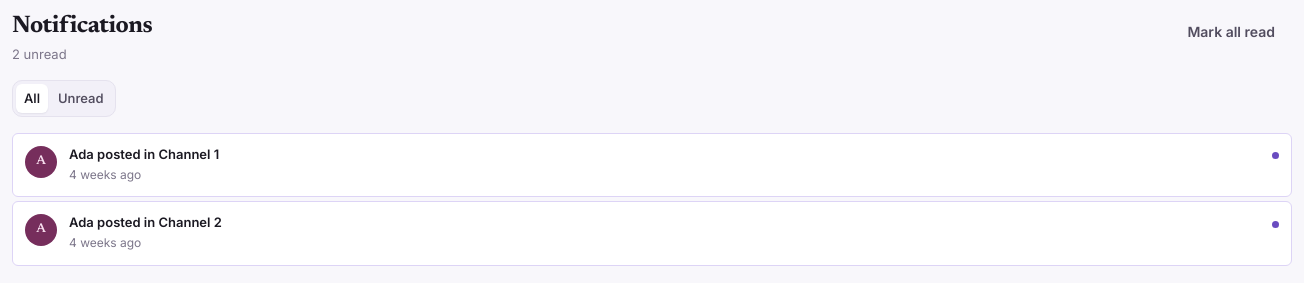
Test: opening one › goes where it points, and the bell drops by one with the server
Step 1. Click the button "A Ada posted in Channel 1 4 weeks ago" → (41, 162), box [12,133,1292,197]
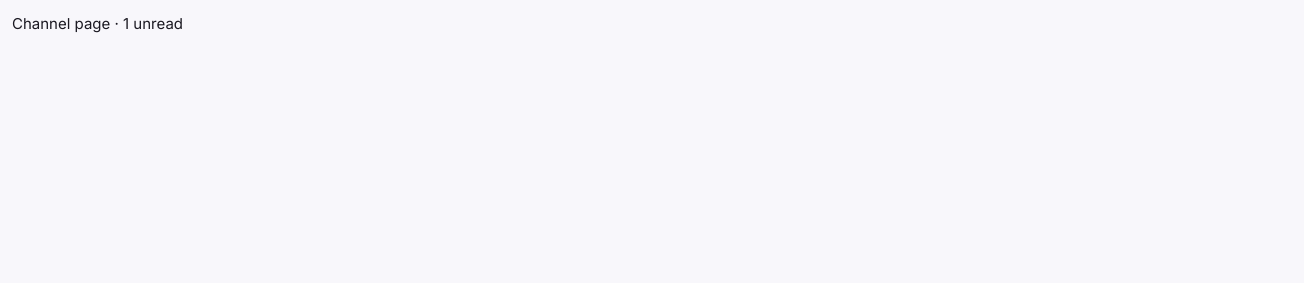
Check: the text "Channel page · 1 unread" is shown, box [12,14,183,33]
